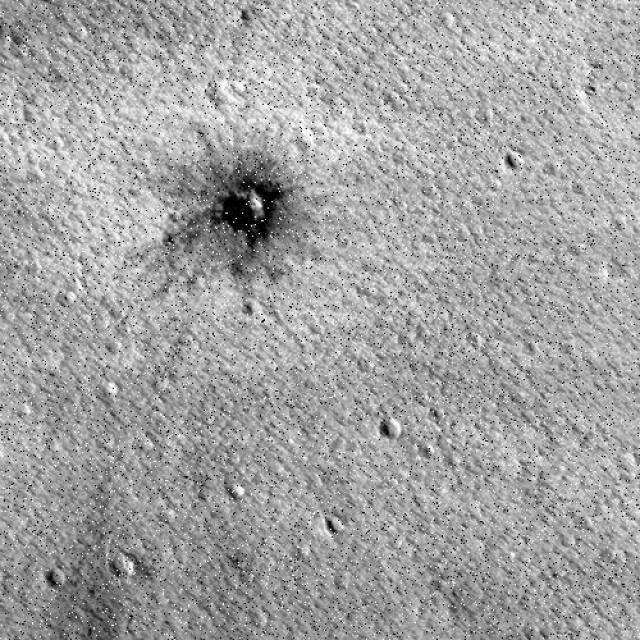crater: (219, 184, 269, 240), (108, 549, 140, 583), (0, 257, 22, 301), (0, 546, 20, 586), (0, 307, 19, 347), (34, 0, 58, 12)
